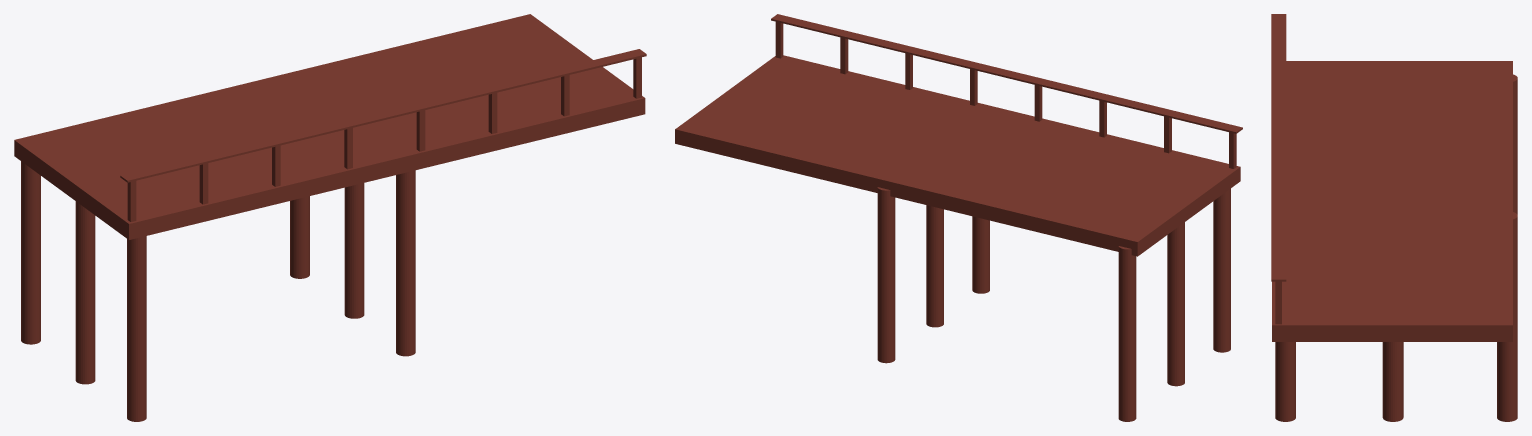
File: Pier.fbx
The picture shows the model from 3 angles, left to right: view 1: azimuth 30°, elevation 25°; view 2: azimuth 150°, elevation 25°; view 3: azimuth 270°, elevation 25°; orthographic projection. The views are drawn at different scales.
Visible parts, largest first — view 1: Cube, Cube.009, Cylinder.006, Cylinder.001, Cylinder, Cylinder.005, Cylinder.007, Cylinder.004; view 2: Cube, Cube.009, Cylinder.005, Cylinder.004, Cylinder, Cylinder.006, Cylinder.007, Cylinder.001; view 3: Cube, Cube.009, Cylinder.004, Cylinder.007, Cylinder.001, Cylinder.005, Cube.008.
Part boxes in pixels (<box>): Cube: <box>14,14,645,239</box>; Cube.009: <box>120,49,646,182</box>; Cylinder.006: <box>75,201,95,384</box>; Cylinder.001: <box>396,170,415,356</box>; Cylinder: <box>127,236,146,421</box>; Cylinder.005: <box>21,161,40,344</box>; Cylinder.007: <box>344,183,364,318</box>; Cylinder.004: <box>290,196,309,278</box>; Cube: <box>675,55,1240,256</box>; Cube.009: <box>771,14,1242,133</box>; Cylinder.005: <box>1118,246,1136,421</box>; Cylinder.004: <box>877,187,895,363</box>; Cylinder: <box>1213,188,1230,352</box>; Cylinder.006: <box>1167,222,1184,386</box>; Cylinder.007: <box>926,205,943,327</box>; Cylinder.001: <box>972,216,989,293</box>; Cube: <box>1272,61,1512,341</box>; Cube.009: <box>1271,14,1286,281</box>; Cylinder.004: <box>1497,212,1517,421</box>; Cylinder.007: <box>1382,342,1403,421</box>; Cylinder.001: <box>1275,342,1295,421</box>; Cylinder.005: <box>1513,74,1517,214</box>; Cube.008: <box>1275,281,1281,324</box>.
Bounding box in the file's own units: 2174 × 984 × 853.
